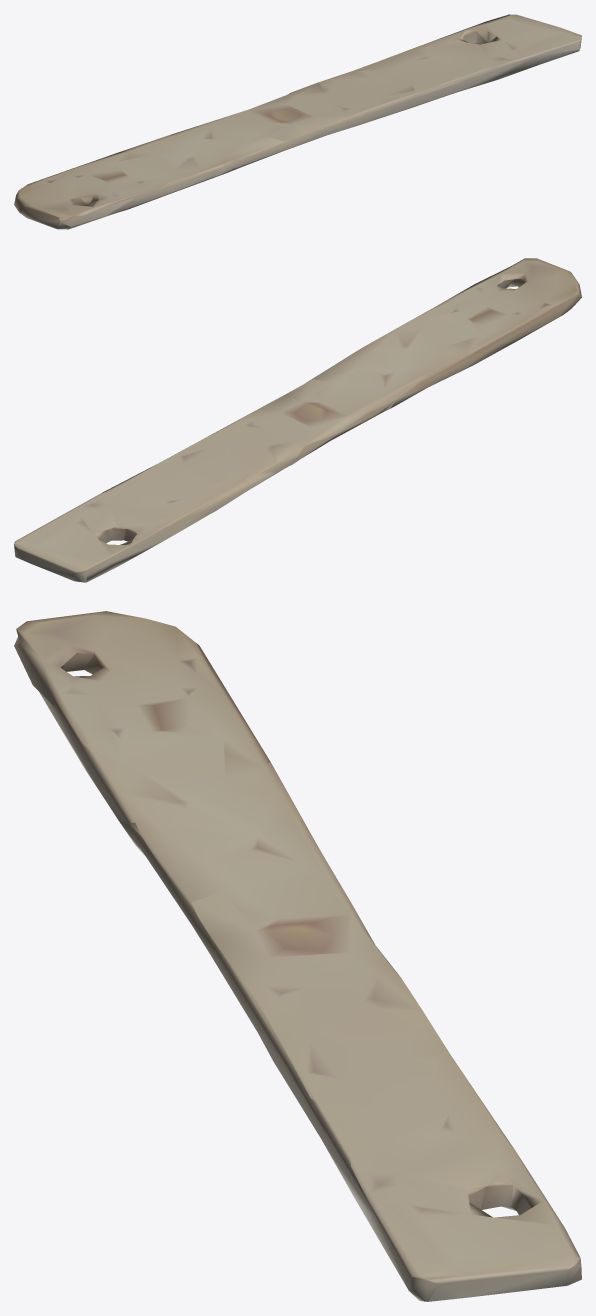
Rendered from 0014_mask_015_ruler.glb.
3 renders of one model, top to bottom at view 1: azimuth 30°, elevation 25°; view 2: azimuth 210°, elevation 25°; view 3: azimuth 270°, elevation 25°, orthographic. The views are drawn at different scales.
Parts seen in each view (by area): view 1: mask_015_object; view 2: mask_015_object; view 3: mask_015_object.
Part boxes in pixels (x1=…): mask_015_object: x1=14, y1=14, x2=581, y2=229; mask_015_object: x1=14, y1=258, x2=581, y2=582; mask_015_object: x1=14, y1=611, x2=581, y2=1301.
Bounding box in the file's own units: 0.3678 × 0.0369 × 0.1533.
